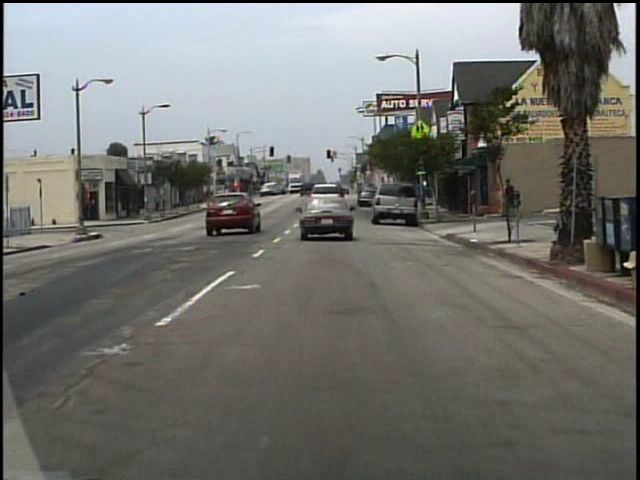person: (505, 177, 517, 217), (496, 182, 509, 217)
